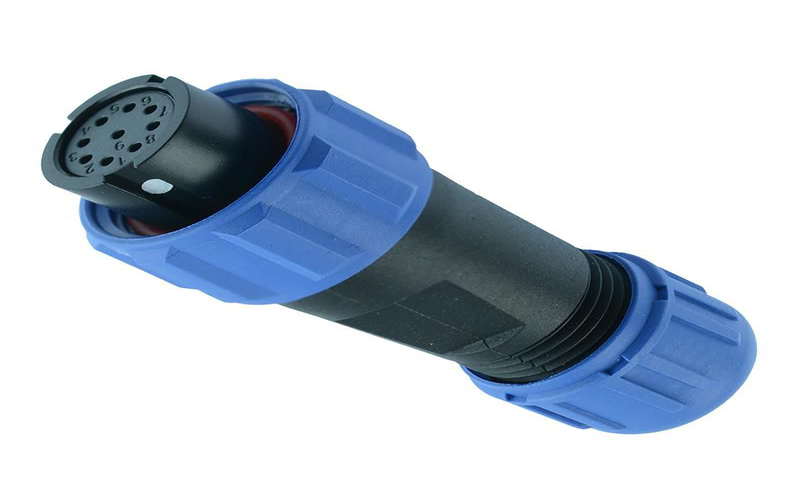Switches: (37, 50, 754, 464)
